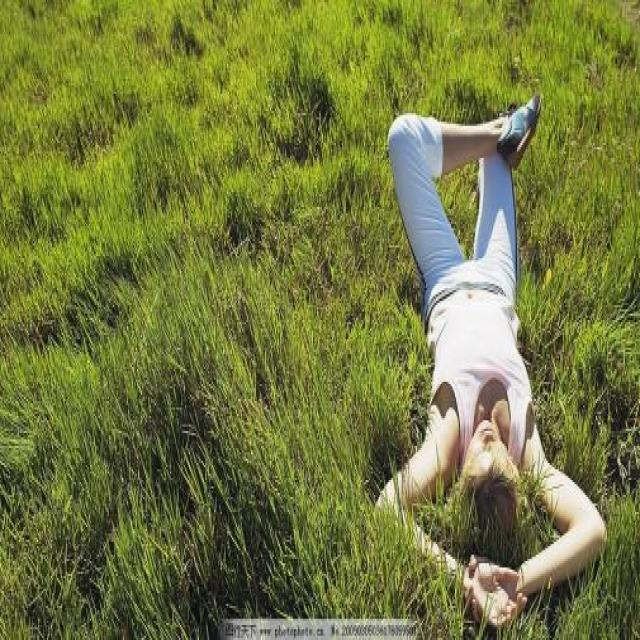fall: (382, 106, 582, 604)
